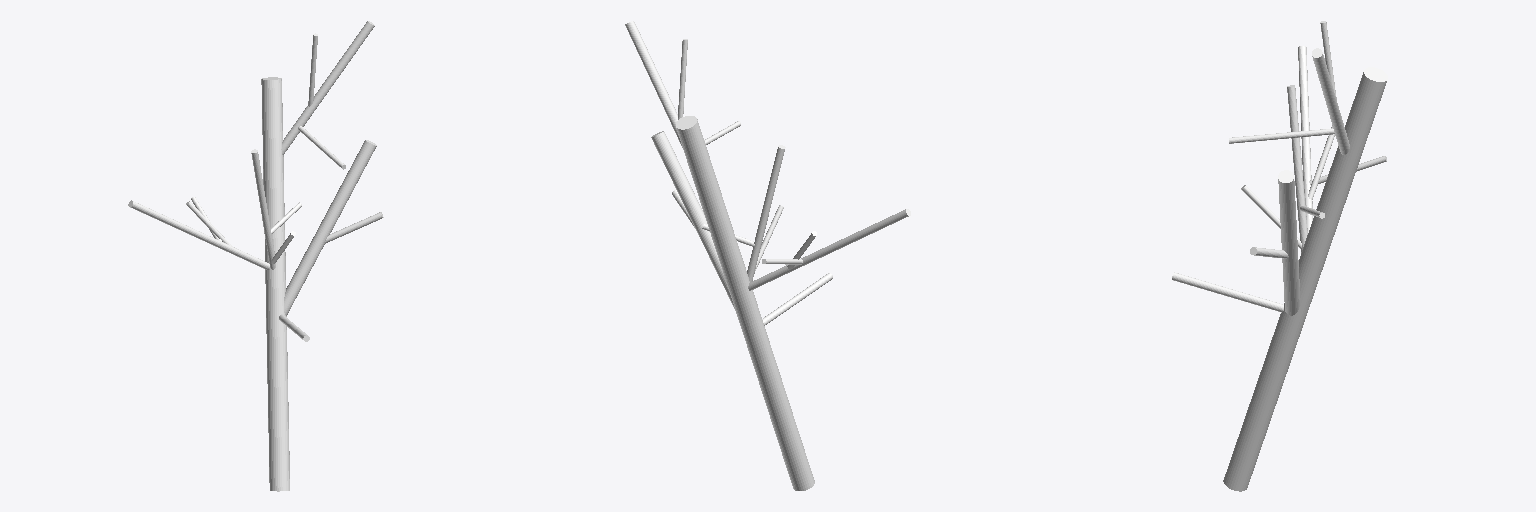
The robot description file, URDF, robot "tree_4.urdf":
<?xml version='1.0' encoding='UTF-8'?>
<robot name="tree_4.urdf">
  <link name="branch_0">
    <inertial>
      <origin xyz="0.0 0.0 0.0" rpy="0.0 -0.0 0.0"/>
      <mass value="1.0"/>
      <inertia ixx="1.0" ixy="0.0" ixz="0.0" iyy="1.0" iyz="0.0" izz="1.0"/>
    </inertial>
    <visual name="branch_0_visual">
      <geometry>
        <cylinder radius="0.16353980706332827" length="6.565114161382183"/>
      </geometry>
      <material name="branch_material"/>
      <origin xyz="0.4477323060109183 0.9063682842274517 3.123013497168393" rpy="0.0 0.3130570081018069 1.1119723133600963"/>
    </visual>
    <collision name="branch_0_collision">
      <geometry>
        <cylinder radius="0.16353980706332827" length="6.565114161382183"/>
      </geometry>
      <origin xyz="0.4477323060109183 0.9063682842274517 3.123013497168393" rpy="0.0 0.3130570081018069 1.1119723133600963"/>
    </collision>
  </link>
  <link name="branch_1">
    <inertial>
      <origin xyz="0.0 0.0 0.0" rpy="0.0 -0.0 0.0"/>
      <mass value="1.0"/>
      <inertia ixx="1.0" ixy="0.0" ixz="0.0" iyy="1.0" iyz="0.0" izz="1.0"/>
    </inertial>
    <visual name="branch_1_visual">
      <geometry>
        <cylinder radius="0.0719459457804179" length="2.73854597147057"/>
      </geometry>
      <material name="branch_material"/>
      <origin xyz="0.0 0.0 0.0" rpy="0.0 -0.0 0.0"/>
    </visual>
    <collision name="branch_1_collision">
      <geometry>
        <cylinder radius="0.0719459457804179" length="2.73854597147057"/>
      </geometry>
      <origin xyz="0.0 0.0 0.0" rpy="0.0 -0.0 0.0"/>
    </collision>
  </link>
  <link name="branch_2">
    <inertial>
      <origin xyz="0.0 0.0 0.0" rpy="0.0 -0.0 0.0"/>
      <mass value="1.0"/>
      <inertia ixx="1.0" ixy="0.0" ixz="0.0" iyy="1.0" iyz="0.0" izz="1.0"/>
    </inertial>
    <visual name="branch_2_visual">
      <geometry>
        <cylinder radius="0.04" length="1.437376042564682"/>
      </geometry>
      <material name="branch_material"/>
      <origin xyz="0.0 0.0 0.0" rpy="0.0 -0.0 0.0"/>
    </visual>
    <collision name="branch_2_collision">
      <geometry>
        <cylinder radius="0.04" length="1.437376042564682"/>
      </geometry>
      <origin xyz="0.0 0.0 0.0" rpy="0.0 -0.0 0.0"/>
    </collision>
  </link>
  <link name="branch_3">
    <inertial>
      <origin xyz="0.0 0.0 0.0" rpy="0.0 -0.0 0.0"/>
      <mass value="1.0"/>
      <inertia ixx="1.0" ixy="0.0" ixz="0.0" iyy="1.0" iyz="0.0" izz="1.0"/>
    </inertial>
    <visual name="branch_3_visual">
      <geometry>
        <cylinder radius="0.04" length="1.3787470851224786"/>
      </geometry>
      <material name="branch_material"/>
      <origin xyz="0.0 0.0 0.0" rpy="0.0 -0.0 0.0"/>
    </visual>
    <collision name="branch_3_collision">
      <geometry>
        <cylinder radius="0.04" length="1.3787470851224786"/>
      </geometry>
      <origin xyz="0.0 0.0 0.0" rpy="0.0 -0.0 0.0"/>
    </collision>
  </link>
  <link name="branch_4">
    <inertial>
      <origin xyz="0.0 0.0 0.0" rpy="0.0 -0.0 0.0"/>
      <mass value="1.0"/>
      <inertia ixx="1.0" ixy="0.0" ixz="0.0" iyy="1.0" iyz="0.0" izz="1.0"/>
    </inertial>
    <visual name="branch_4_visual">
      <geometry>
        <cylinder radius="0.10432646216184191" length="3.2321311652021323"/>
      </geometry>
      <material name="branch_material"/>
      <origin xyz="0.0 0.0 0.0" rpy="0.0 -0.0 0.0"/>
    </visual>
    <collision name="branch_4_collision">
      <geometry>
        <cylinder radius="0.10432646216184191" length="3.2321311652021323"/>
      </geometry>
      <origin xyz="0.0 0.0 0.0" rpy="0.0 -0.0 0.0"/>
    </collision>
  </link>
  <link name="branch_5">
    <inertial>
      <origin xyz="0.0 0.0 0.0" rpy="0.0 -0.0 0.0"/>
      <mass value="1.0"/>
      <inertia ixx="1.0" ixy="0.0" ixz="0.0" iyy="1.0" iyz="0.0" izz="1.0"/>
    </inertial>
    <visual name="branch_5_visual">
      <geometry>
        <cylinder radius="0.0533297120932267" length="1.1279205558148293"/>
      </geometry>
      <material name="branch_material"/>
      <origin xyz="0.0 0.0 0.0" rpy="0.0 -0.0 0.0"/>
    </visual>
    <collision name="branch_5_collision">
      <geometry>
        <cylinder radius="0.0533297120932267" length="1.1279205558148293"/>
      </geometry>
      <origin xyz="0.0 0.0 0.0" rpy="0.0 -0.0 0.0"/>
    </collision>
  </link>
  <link name="branch_6">
    <inertial>
      <origin xyz="0.0 0.0 0.0" rpy="0.0 -0.0 0.0"/>
      <mass value="1.0"/>
      <inertia ixx="1.0" ixy="0.0" ixz="0.0" iyy="1.0" iyz="0.0" izz="1.0"/>
    </inertial>
    <visual name="branch_6_visual">
      <geometry>
        <cylinder radius="0.05302110156133289" length="1.6297996235596905"/>
      </geometry>
      <material name="branch_material"/>
      <origin xyz="0.0 0.0 0.0" rpy="0.0 -0.0 0.0"/>
    </visual>
    <collision name="branch_6_collision">
      <geometry>
        <cylinder radius="0.05302110156133289" length="1.6297996235596905"/>
      </geometry>
      <origin xyz="0.0 0.0 0.0" rpy="0.0 -0.0 0.0"/>
    </collision>
  </link>
  <link name="branch_7">
    <inertial>
      <origin xyz="0.0 0.0 0.0" rpy="0.0 -0.0 0.0"/>
      <mass value="1.0"/>
      <inertia ixx="1.0" ixy="0.0" ixz="0.0" iyy="1.0" iyz="0.0" izz="1.0"/>
    </inertial>
    <visual name="branch_7_visual">
      <geometry>
        <cylinder radius="0.0541638354006122" length="2.509172427642008"/>
      </geometry>
      <material name="branch_material"/>
      <origin xyz="0.0 0.0 0.0" rpy="0.0 -0.0 0.0"/>
    </visual>
    <collision name="branch_7_collision">
      <geometry>
        <cylinder radius="0.0541638354006122" length="2.509172427642008"/>
      </geometry>
      <origin xyz="0.0 0.0 0.0" rpy="0.0 -0.0 0.0"/>
    </collision>
  </link>
  <link name="branch_8">
    <inertial>
      <origin xyz="0.0 0.0 0.0" rpy="0.0 -0.0 0.0"/>
      <mass value="1.0"/>
      <inertia ixx="1.0" ixy="0.0" ixz="0.0" iyy="1.0" iyz="0.0" izz="1.0"/>
    </inertial>
    <visual name="branch_8_visual">
      <geometry>
        <cylinder radius="0.04" length="1.164303409102259"/>
      </geometry>
      <material name="branch_material"/>
      <origin xyz="0.0 0.0 0.0" rpy="0.0 -0.0 0.0"/>
    </visual>
    <collision name="branch_8_collision">
      <geometry>
        <cylinder radius="0.04" length="1.164303409102259"/>
      </geometry>
      <origin xyz="0.0 0.0 0.0" rpy="0.0 -0.0 0.0"/>
    </collision>
  </link>
  <link name="branch_9">
    <inertial>
      <origin xyz="0.0 0.0 0.0" rpy="0.0 -0.0 0.0"/>
      <mass value="1.0"/>
      <inertia ixx="1.0" ixy="0.0" ixz="0.0" iyy="1.0" iyz="0.0" izz="1.0"/>
    </inertial>
    <visual name="branch_9_visual">
      <geometry>
        <cylinder radius="0.04" length="0.8271136033782177"/>
      </geometry>
      <material name="branch_material"/>
      <origin xyz="0.0 0.0 0.0" rpy="0.0 -0.0 0.0"/>
    </visual>
    <collision name="branch_9_collision">
      <geometry>
        <cylinder radius="0.04" length="0.8271136033782177"/>
      </geometry>
      <origin xyz="0.0 0.0 0.0" rpy="0.0 -0.0 0.0"/>
    </collision>
  </link>
  <link name="branch_10">
    <inertial>
      <origin xyz="0.0 0.0 0.0" rpy="0.0 -0.0 0.0"/>
      <mass value="1.0"/>
      <inertia ixx="1.0" ixy="0.0" ixz="0.0" iyy="1.0" iyz="0.0" izz="1.0"/>
    </inertial>
    <visual name="branch_10_visual">
      <geometry>
        <cylinder radius="0.05585763299251263" length="3.271113953054668"/>
      </geometry>
      <material name="branch_material"/>
      <origin xyz="0.0 0.0 0.0" rpy="0.0 -0.0 0.0"/>
    </visual>
    <collision name="branch_10_collision">
      <geometry>
        <cylinder radius="0.05585763299251263" length="3.271113953054668"/>
      </geometry>
      <origin xyz="0.0 0.0 0.0" rpy="0.0 -0.0 0.0"/>
    </collision>
  </link>
  <link name="branch_11">
    <inertial>
      <origin xyz="0.0 0.0 0.0" rpy="0.0 -0.0 0.0"/>
      <mass value="1.0"/>
      <inertia ixx="1.0" ixy="0.0" ixz="0.0" iyy="1.0" iyz="0.0" izz="1.0"/>
    </inertial>
    <visual name="branch_11_visual">
      <geometry>
        <cylinder radius="0.04" length="1.0932554159726506"/>
      </geometry>
      <material name="branch_material"/>
      <origin xyz="0.0 0.0 0.0" rpy="0.0 -0.0 0.0"/>
    </visual>
    <collision name="branch_11_collision">
      <geometry>
        <cylinder radius="0.04" length="1.0932554159726506"/>
      </geometry>
      <origin xyz="0.0 0.0 0.0" rpy="0.0 -0.0 0.0"/>
    </collision>
  </link>
  <link name="branch_12">
    <inertial>
      <origin xyz="0.0 0.0 0.0" rpy="0.0 -0.0 0.0"/>
      <mass value="1.0"/>
      <inertia ixx="1.0" ixy="0.0" ixz="0.0" iyy="1.0" iyz="0.0" izz="1.0"/>
    </inertial>
    <visual name="branch_12_visual">
      <geometry>
        <cylinder radius="0.04" length="1.1158662229282237"/>
      </geometry>
      <material name="branch_material"/>
      <origin xyz="0.0 0.0 0.0" rpy="0.0 -0.0 0.0"/>
    </visual>
    <collision name="branch_12_collision">
      <geometry>
        <cylinder radius="0.04" length="1.1158662229282237"/>
      </geometry>
      <origin xyz="0.0 0.0 0.0" rpy="0.0 -0.0 0.0"/>
    </collision>
  </link>
  <joint name="joint_0_1" type="fixed">
    <parent link="branch_0"/>
    <child link="branch_1"/>
    <axis xyz="1. 0. 0."/>
    <origin xyz="1.4970435342427142 1.249827060860495 6.091853083162044" rpy="-0.3558506231534457 0.531571857748533 -0.879464760499372"/>
  </joint>
  <joint name="joint_0_4" type="fixed">
    <parent link="branch_0"/>
    <child link="branch_4"/>
    <axis xyz="1. 0. 0."/>
    <origin xyz="1.2062992152367564 0.6992317905748933 3.947329639170264" rpy="-0.3426873480616112 0.43421344396296513 -0.7577087243913646"/>
  </joint>
  <joint name="joint_0_7" type="fixed">
    <parent link="branch_0"/>
    <child link="branch_7"/>
    <axis xyz="1. 0. 0."/>
    <origin xyz="0.20377468762132853 0.8218146014270798 4.4148121400437095" rpy="0.09494515489860864 0.19912521742000225 -2.3032679095993163"/>
  </joint>
  <joint name="joint_0_10" type="fixed">
    <parent link="branch_0"/>
    <child link="branch_10"/>
    <axis xyz="1. 0. 0."/>
    <origin xyz="-0.8746104730997769 0.9153120730752029 4.2559881398710875" rpy="0.413138305054943 0.9120942486495979 -2.5957093329846694"/>
  </joint>
  <joint name="joint_1_2" type="fixed">
    <parent link="branch_0"/>
    <child link="branch_2"/>
    <axis xyz="1. 0. 0."/>
    <origin xyz="1.1183916997155965 0.6311809453128931 5.479736770465182" rpy="-1.7389953659501636 0.9555842510901434 3.010882557478337"/>
  </joint>
  <joint name="joint_1_3" type="fixed">
    <parent link="branch_0"/>
    <child link="branch_3"/>
    <axis xyz="1. 0. 0."/>
    <origin xyz="1.3066619497227825 1.2152196016118944 6.5060552072490605" rpy="-0.11984240952673815 -0.010578148797170304 3.0619888133791404"/>
  </joint>
  <joint name="joint_4_5" type="fixed">
    <parent link="branch_0"/>
    <child link="branch_5"/>
    <axis xyz="1. 0. 0."/>
    <origin xyz="1.5503680777667064 0.46781856067309147 4.008332994624282" rpy="-0.6453064202066889 1.0111691004827021 -1.2095538969667017"/>
  </joint>
  <joint name="joint_4_6" type="fixed">
    <parent link="branch_0"/>
    <child link="branch_6"/>
    <axis xyz="1. 0. 0."/>
    <origin xyz="0.21926273263799587 -0.031744294669862255 2.809447995873746" rpy="-1.1972248407981028 1.0030089465538383 -3.07423932230939"/>
  </joint>
  <joint name="joint_7_8" type="fixed">
    <parent link="branch_0"/>
    <child link="branch_8"/>
    <axis xyz="1. 0. 0."/>
    <origin xyz="0.34763853358307156 0.5000527785900485 3.946693994268391" rpy="0.2830868119507327 0.7117745880862792 -1.2540959457740102"/>
  </joint>
  <joint name="joint_7_9" type="fixed">
    <parent link="branch_0"/>
    <child link="branch_9"/>
    <axis xyz="1. 0. 0."/>
    <origin xyz="0.649926098410878 0.9865193811600999 4.177896265876726" rpy="0.031072528309218226 1.2744631771186168 0.3788472291420196"/>
  </joint>
  <joint name="joint_10_11" type="fixed">
    <parent link="branch_0"/>
    <child link="branch_11"/>
    <axis xyz="1. 0. 0."/>
    <origin xyz="-0.4937203454247513 1.4367090038419512 4.219059054772356" rpy="-1.1266304372552842 0.5432122102864579 0.1829387978223598"/>
  </joint>
  <joint name="joint_10_12" type="fixed">
    <parent link="branch_0"/>
    <child link="branch_12"/>
    <axis xyz="1. 0. 0."/>
    <origin xyz="-0.6133755135728186 1.118565990661723 4.2862791936096665" rpy="-0.6797749352492255 -0.23339856468865303 0.77522574392747"/>
  </joint>
  <material name="branch_material">
    <color rgba="1. 1. 1. 1."/>
  </material>
</robot>

--- Facts derived from the render (not from the file) ---
The picture shows the robot from 3 angles, left to right: view 1: azimuth 30°, elevation 25°; view 2: azimuth 150°, elevation 25°; view 3: azimuth 270°, elevation 25°; orthographic projection.
Model tree_4.urdf with 13 links and 12 joints (12 fixed), rooted at branch_0, posed every joint at zero.
Visible links, largest first — view 1: branch_0, branch_4, branch_1, branch_10, branch_7; view 2: branch_0, branch_4, branch_10, branch_1, branch_7, branch_6; view 3: branch_0, branch_4, branch_10, branch_7, branch_1, branch_6, branch_2.
Link boxes in pixels (x1,y1,x2,y2): branch_0: [261, 77, 289, 491]; branch_4: [284, 140, 376, 315]; branch_1: [281, 21, 374, 154]; branch_10: [128, 200, 269, 269]; branch_7: [251, 149, 275, 269]; branch_0: [676, 116, 814, 490]; branch_4: [651, 131, 734, 308]; branch_10: [748, 209, 910, 290]; branch_1: [625, 21, 682, 147]; branch_7: [747, 145, 785, 281]; branch_6: [762, 273, 832, 325]; branch_0: [1223, 67, 1387, 491]; branch_4: [1278, 170, 1299, 315]; branch_10: [1298, 46, 1312, 232]; branch_7: [1287, 85, 1307, 252]; branch_1: [1312, 48, 1349, 154]; branch_6: [1172, 272, 1283, 312]; branch_2: [1229, 128, 1334, 143].
Bounding box of the posed robot: 4.6 × 2.79 × 7.29 m (x, y, z).
Geometry: primitives only (box / cylinder / sphere), no mesh files.